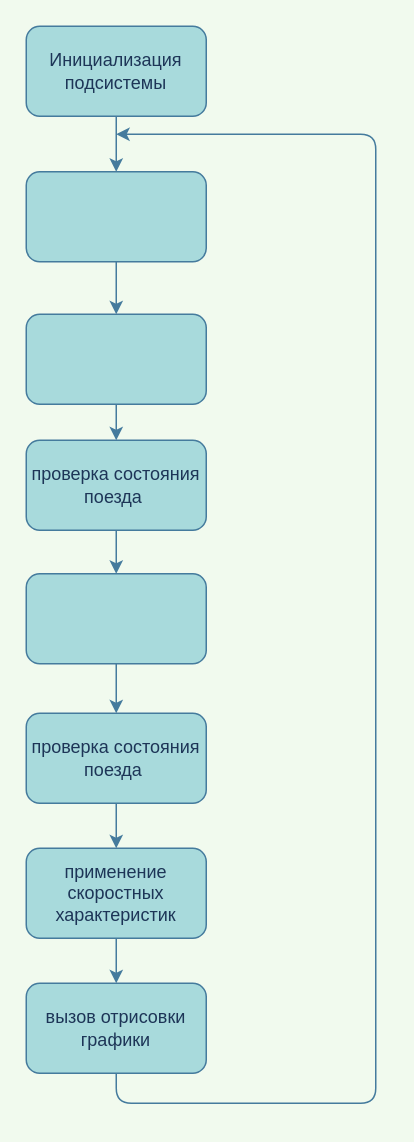
The diagram is 414 pixels wide and 1142 high, and some of its shapes have lost their labels. Each missing label, with the centre of its shape:
изменение состояния поезда: pixel 115 618
получение данных от смежных подсистем: pixel 115 358
считывание ввода пользователя: pixel 115 216
